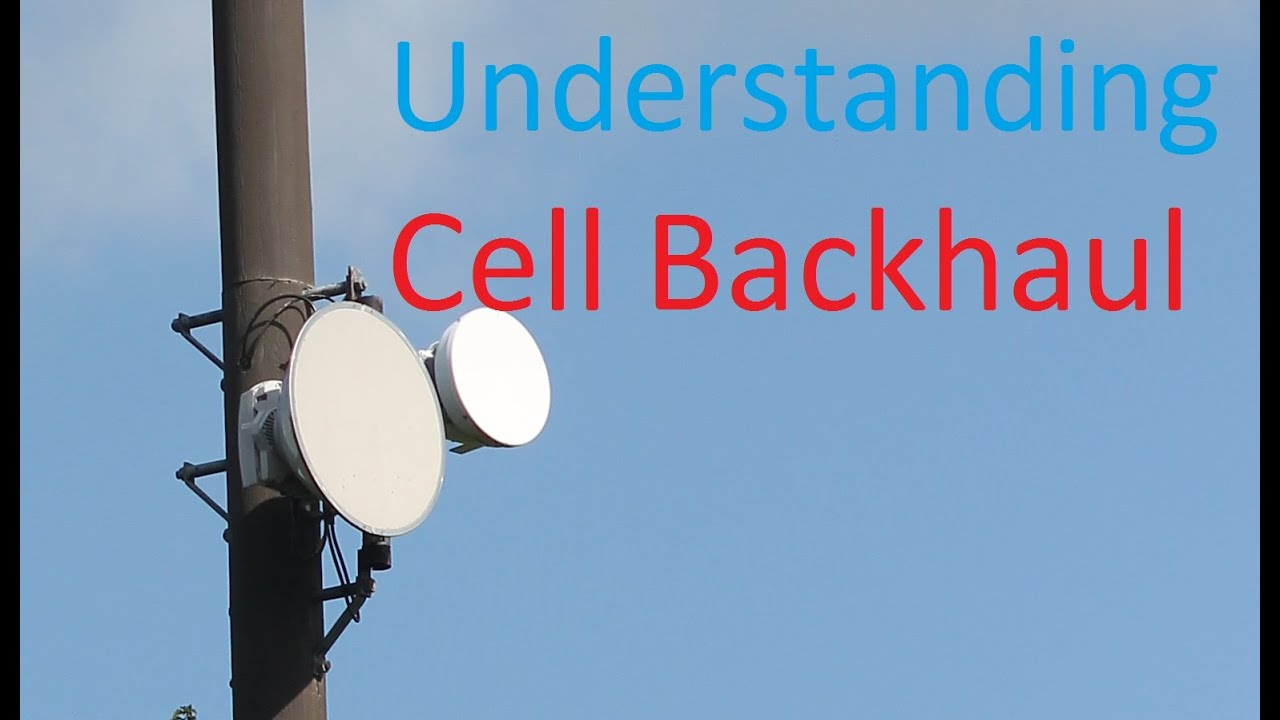ba: (282, 296, 448, 564), (426, 295, 564, 478)
